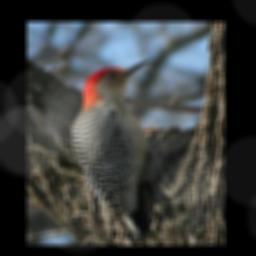Woodpecker: (68, 58, 165, 242)
